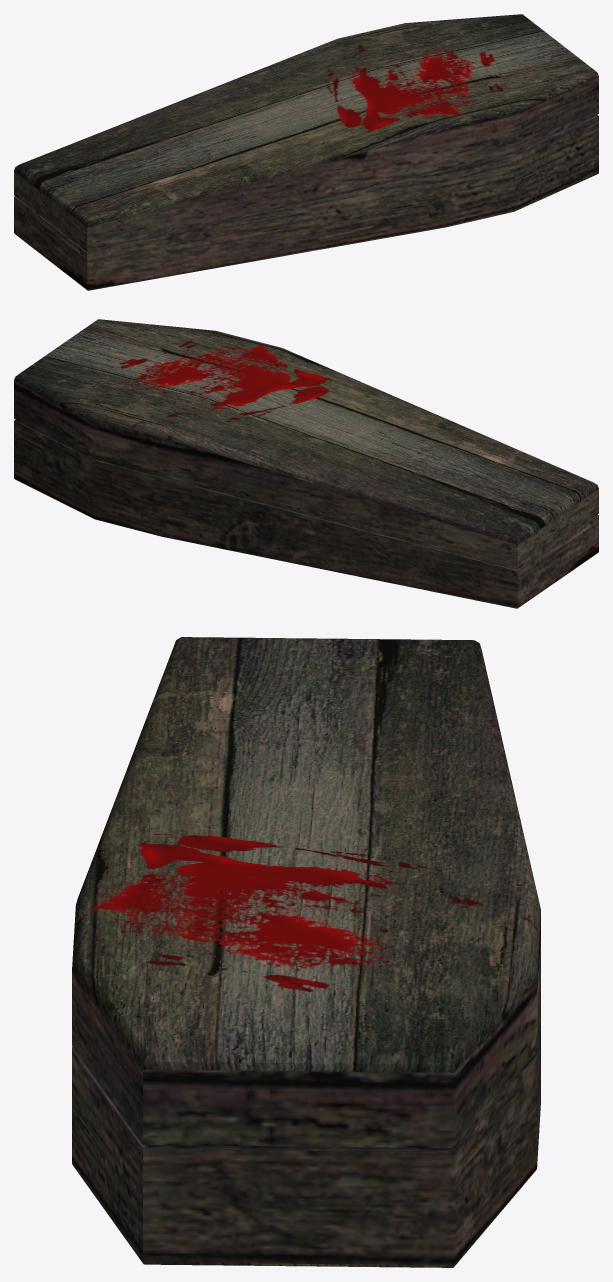
File: Horror_Final_Coffin 2.fbx
3 views of the same model, one above another, from view 1: azimuth 30°, elevation 25°; view 2: azimuth 150°, elevation 25°; view 3: azimuth 270°, elevation 25° (orthographic). The views are drawn at different scales.
Parts seen in each view (by area): view 1: polySurface288; view 2: polySurface288; view 3: polySurface288.
Part boxes in pixels (x1,y1,x2,y2): polySurface288: (14,14,598,290); polySurface288: (14,319,598,608); polySurface288: (72,637,540,1267).
Bounding box in the file's own units: 151 × 29.97 × 60.47.
1 material, 1 textured.
